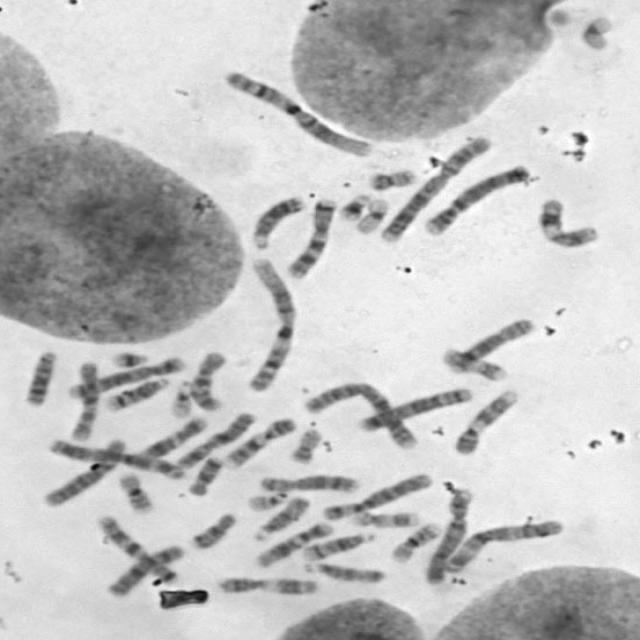A1: (225, 70, 376, 158), (246, 256, 298, 392)
A2: (379, 135, 492, 242), (303, 382, 419, 452)
A3: (443, 519, 564, 575), (45, 438, 186, 481)
B4: (422, 164, 530, 234), (422, 488, 473, 585)
B5: (356, 387, 474, 433), (66, 356, 186, 400)
C10: (70, 360, 100, 441), (188, 351, 226, 412)
C11: (537, 198, 598, 247), (218, 576, 320, 596)
C12: (254, 521, 336, 568), (136, 416, 210, 463)
C6: (42, 436, 127, 506), (322, 472, 433, 520)
C7: (97, 516, 181, 586), (284, 197, 336, 279)
C8: (449, 318, 536, 374), (258, 473, 361, 494)
C9: (452, 389, 520, 455), (224, 416, 298, 470)
D13: (251, 194, 306, 250), (23, 351, 58, 407)
D14: (101, 376, 170, 412), (300, 532, 376, 562)
D15: (252, 495, 312, 542), (301, 562, 386, 584)
E16: (390, 521, 444, 564), (116, 471, 155, 515)
E17: (441, 347, 509, 382), (347, 509, 421, 529)
E18: (191, 512, 238, 548), (187, 456, 224, 497)
F19: (355, 198, 390, 235), (581, 16, 615, 49)
F20: (289, 427, 323, 465), (367, 169, 417, 191)
G21: (337, 193, 370, 222), (111, 351, 149, 368)
G22: (169, 379, 194, 418), (246, 491, 288, 511)
X: (175, 412, 257, 469), (107, 544, 185, 596)
